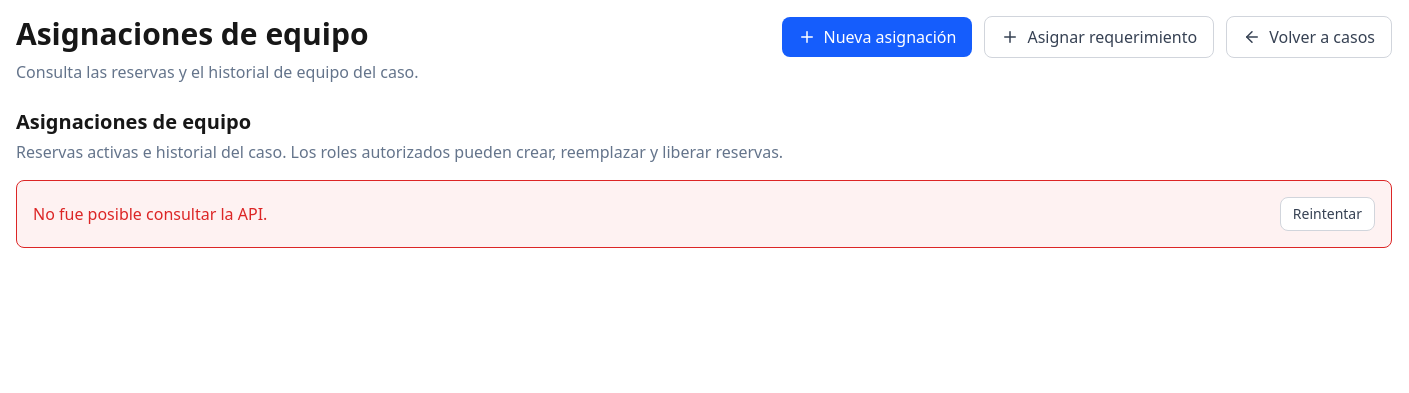
Scenario: HealthcareCaseEquipmentAssignmentsPage › muestra error y permite reintentar la carga
Expected: the text "No fue posible consultar la API." is shown, [33,202,267,226]
Click the button "Reintentar". click: click(1327, 214)
box: [1280,197,1375,231]
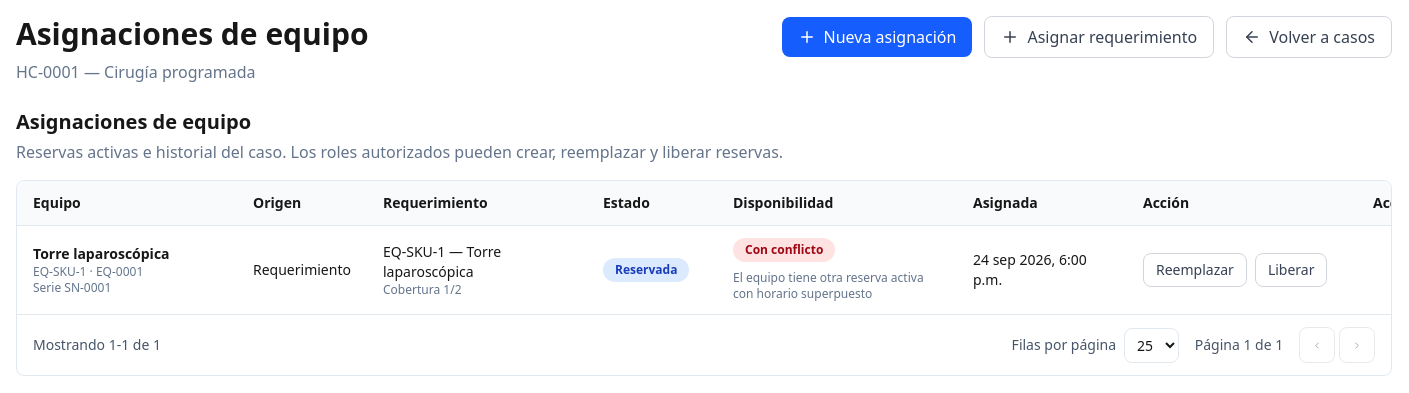
Expected: the text "Torre laparoscópica" is shown, [33,244,170,263]
